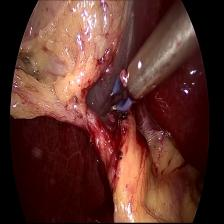Bipolar: (98, 55, 147, 126)
